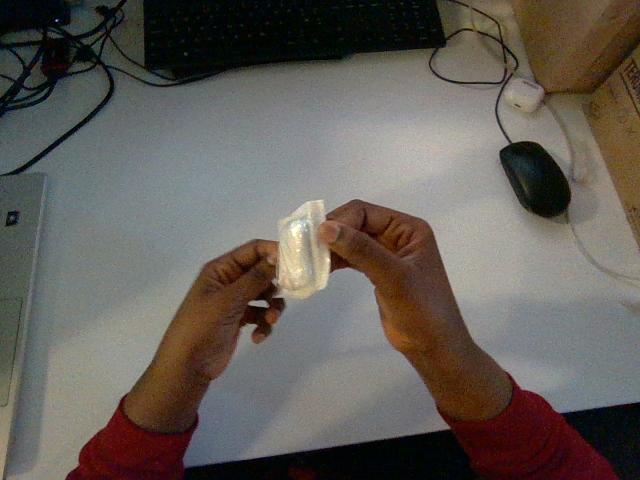gauze: (277, 200, 330, 298)
